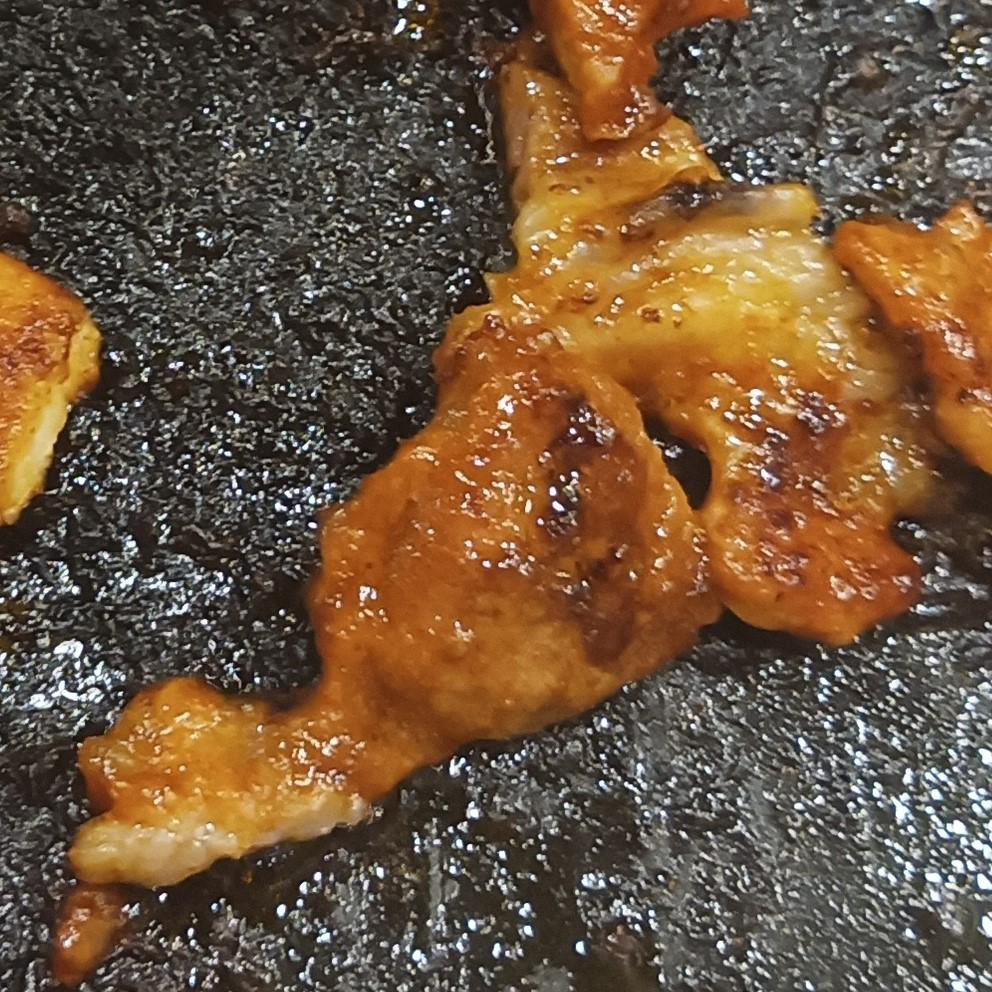Well-Cooked: (56, 0, 987, 980), (0, 253, 102, 512)
